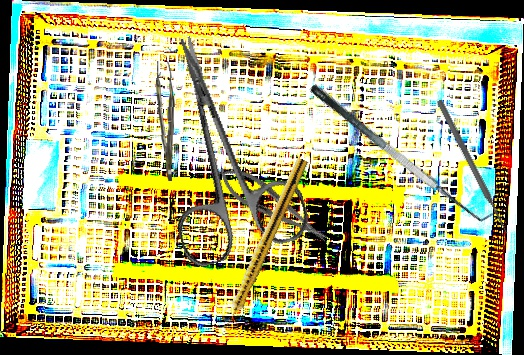Handpiece: (219, 155, 309, 331)
Iris Scissors: (127, 18, 314, 271)
Needle Holder: (211, 158, 335, 253)
Pusher: (434, 98, 512, 237)
Spatula Surgical: (307, 68, 498, 236)
Tissue Forceps: (152, 60, 177, 182)
